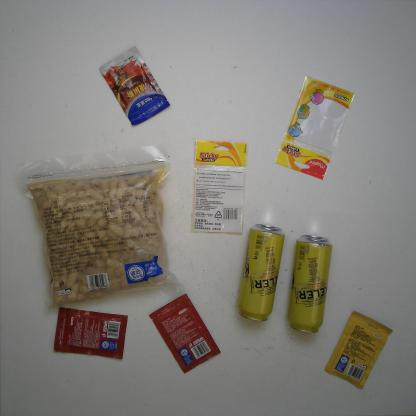Alcohol: (232, 222, 286, 323), (282, 234, 334, 334)
Dried Food: (18, 142, 190, 311)
Seasoner: (145, 292, 223, 375), (94, 45, 172, 126), (324, 310, 395, 391), (50, 305, 130, 361)
Stationery: (274, 74, 358, 184), (188, 136, 251, 236)
